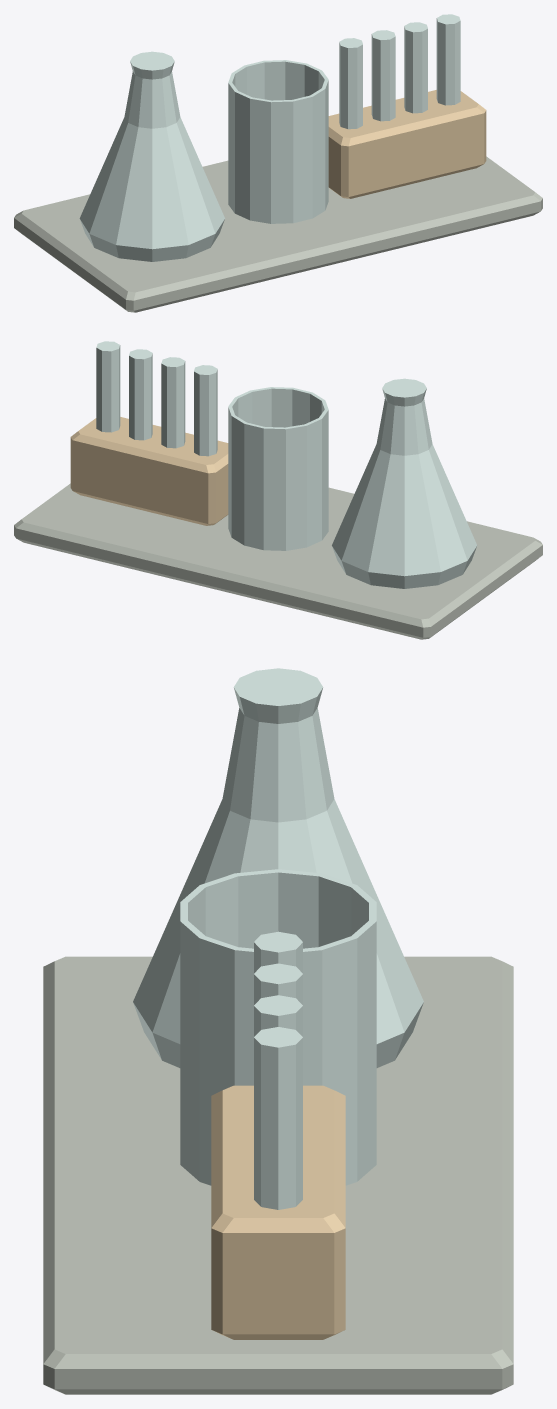
Rendered from lab_flask_set.glb.
3 views of the same model, one above another, from view 1: azimuth 30°, elevation 25°; view 2: azimuth 150°, elevation 25°; view 3: azimuth 270°, elevation 25° (orthographic). The views are drawn at different scales.
Visible parts, largest first — view 1: lab_flask_set; view 2: lab_flask_set; view 3: lab_flask_set.
Boxes of the visible parts, x1=… form: lab_flask_set: x1=14, y1=14, x2=542, y2=312; lab_flask_set: x1=14, y1=341, x2=542, y2=639; lab_flask_set: x1=43, y1=668, x2=513, y2=1394.
Size of the model in its own units: 0.86 by 0.38 by 0.42.
